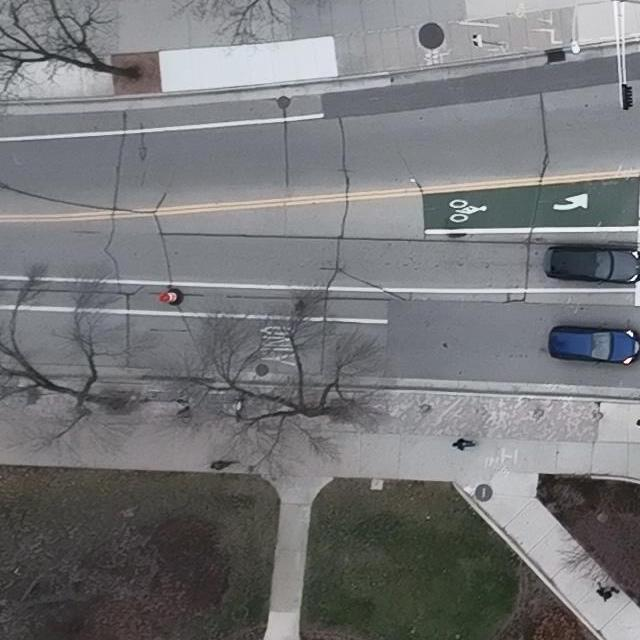car: (542, 245, 640, 284), (548, 325, 640, 365)
